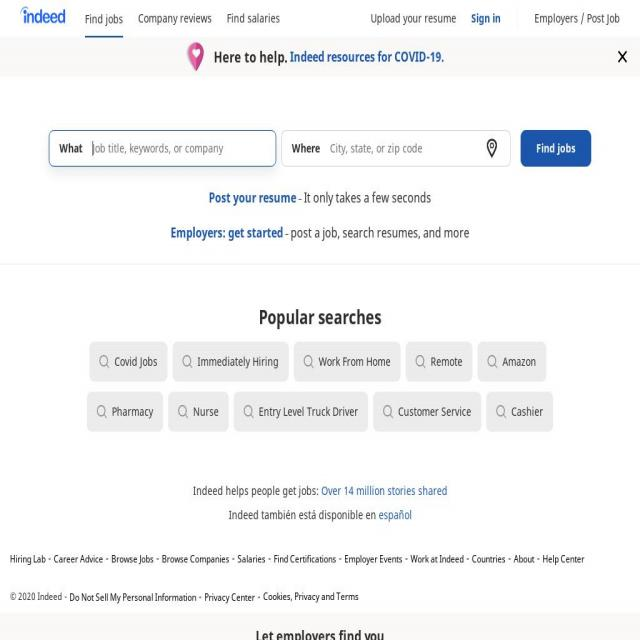login-option: (468, 7, 502, 35)
navigation-links: (75, 1, 277, 36), (525, 7, 633, 35), (366, 6, 462, 36)
search: (38, 125, 592, 172)
